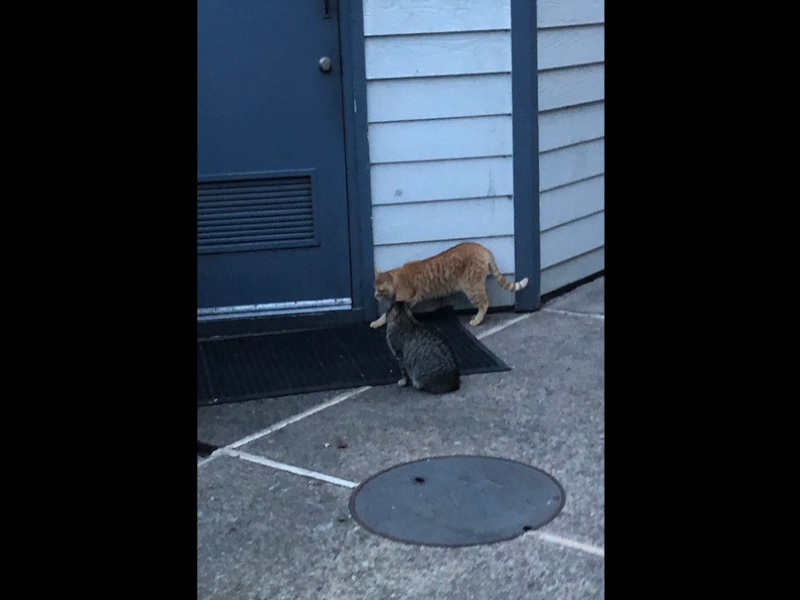cat: (368, 239, 534, 329), (381, 298, 464, 393)
